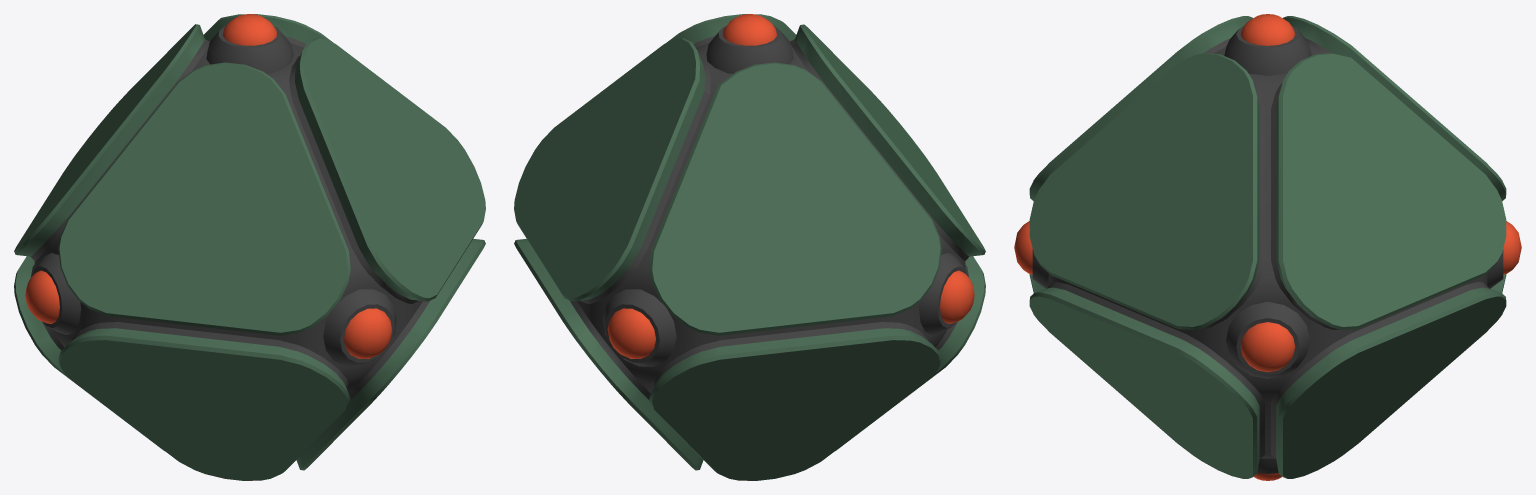
File: TeleportBomb.fbx
The picture shows the model from 3 angles, left to right: view 1: azimuth 30°, elevation 25°; view 2: azimuth 150°, elevation 25°; view 3: azimuth 270°, elevation 25°; orthographic projection.
Parts seen in each view (by area): view 1: TeleportBombMesh; view 2: TeleportBombMesh; view 3: TeleportBombMesh.
Boxes of the visible parts, x1=… form: TeleportBombMesh: x1=14, y1=14, x2=485, y2=480; TeleportBombMesh: x1=514, y1=14, x2=985, y2=480; TeleportBombMesh: x1=1014, y1=14, x2=1521, y2=480.
Bounding box in the file's own units: 54.25 × 54.25 × 54.25.
